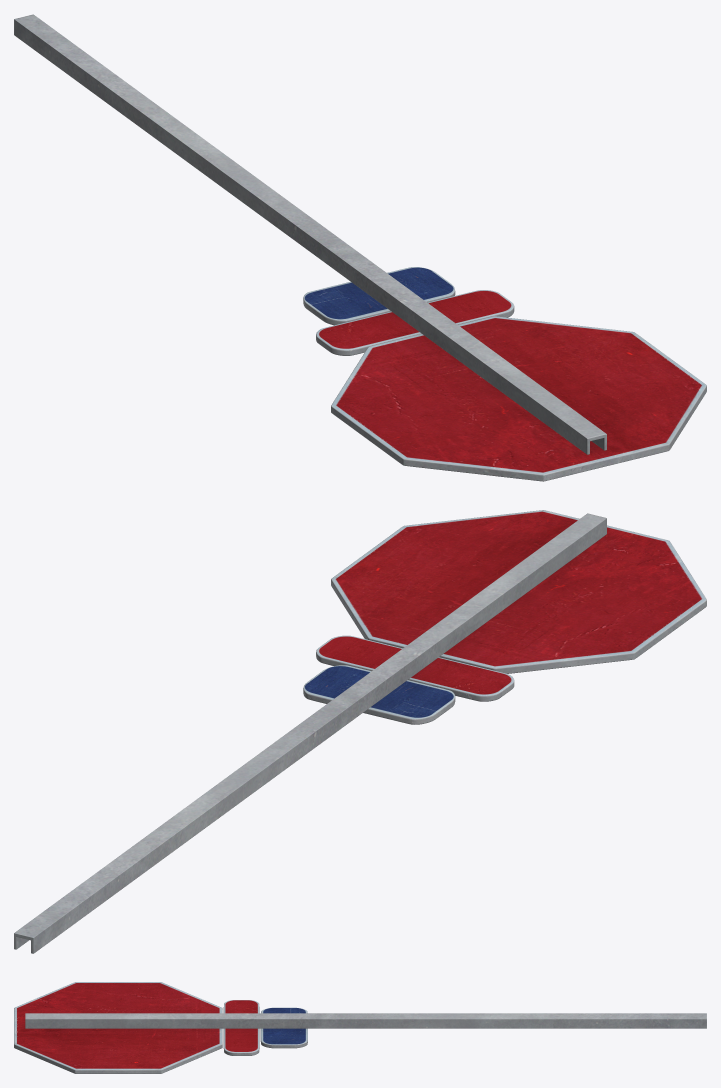
File: 10568StopSign_v1-L3.obj
3 views of the same model, one above another, from view 1: azimuth 30°, elevation 25°; view 2: azimuth 150°, elevation 25°; view 3: azimuth 270°, elevation 25° (orthographic). The views are drawn at different scales.
Parts seen in each view (by area): view 1: StopSign_Mesh; view 2: StopSign_Mesh; view 3: StopSign_Mesh.
Boxes of the visible parts, <box> form: StopSign_Mesh: <box>14,14,706,481</box>; StopSign_Mesh: <box>14,510,706,953</box>; StopSign_Mesh: <box>14,982,706,1073</box>.
Size of the model in its own units: 45.75 by 3.36 by 152.
1 material, 1 textured.
